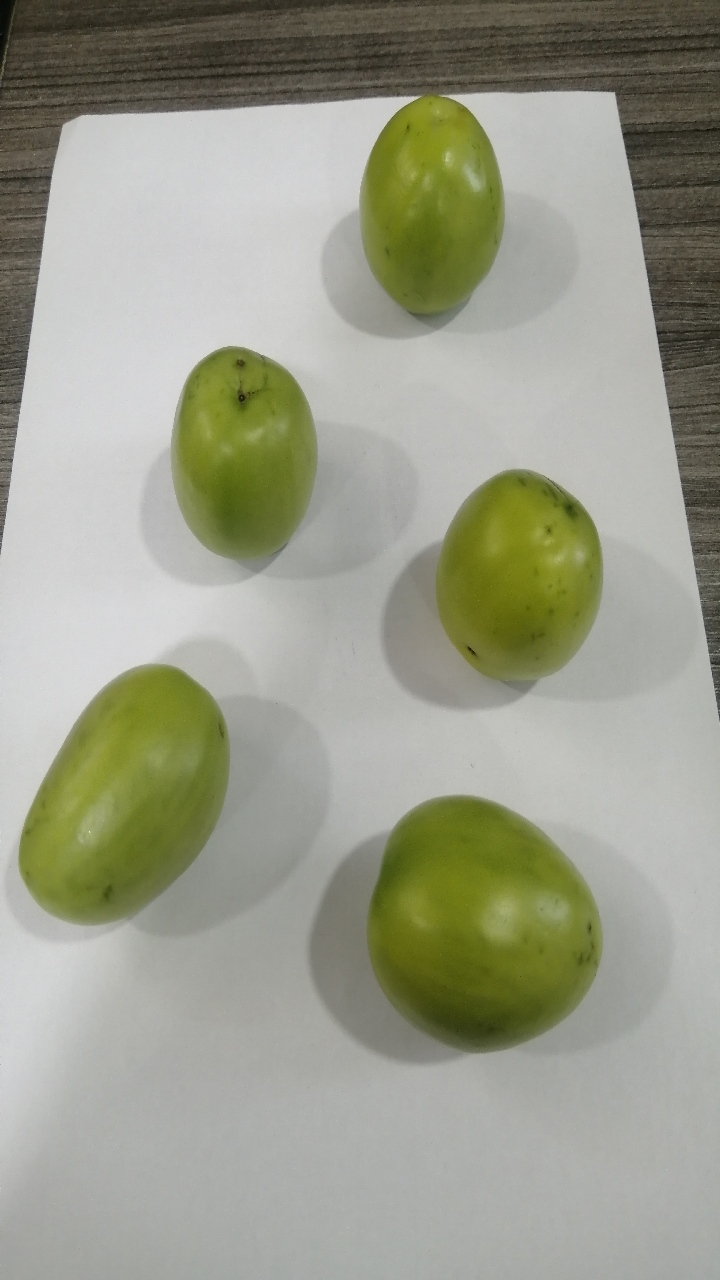tomateVerde: (348, 774, 614, 1059), (9, 648, 248, 945), (401, 463, 632, 706), (332, 79, 540, 334), (137, 325, 338, 572)
